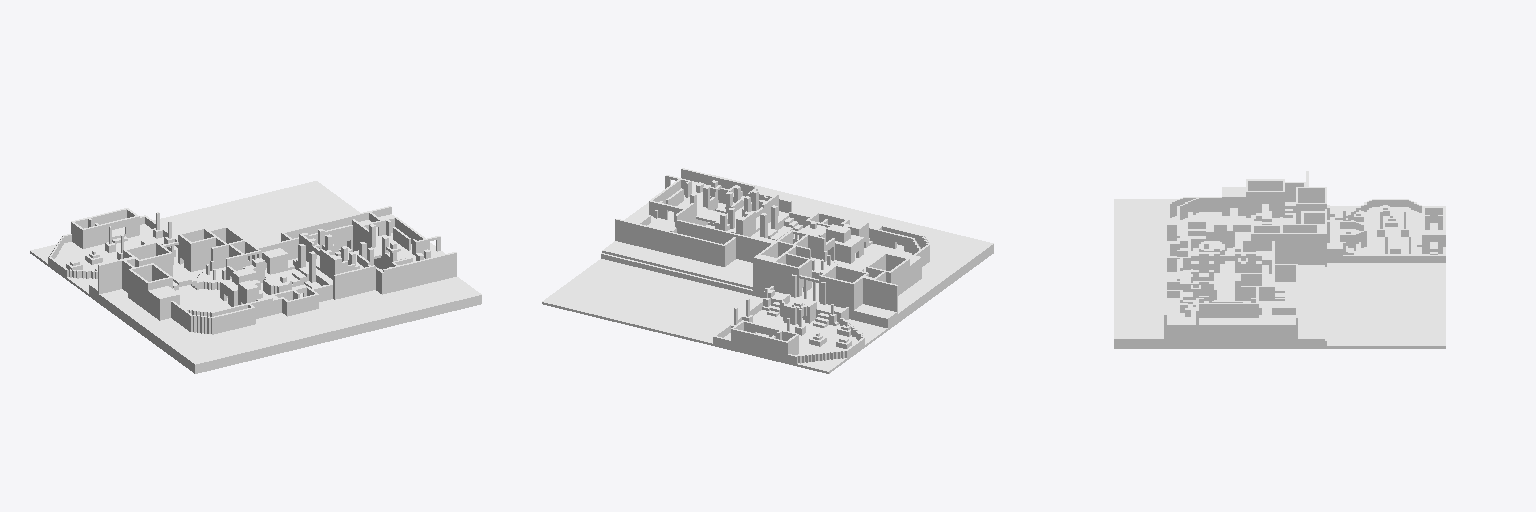
The model's file is atk_base_whole_part.obj.
3 views of the same model, side by side, from view 1: azimuth 30°, elevation 25°; view 2: azimuth 150°, elevation 25°; view 3: azimuth 270°, elevation 25° (orthographic).
Bounding box in the file's own units: 126 × 19 × 126.